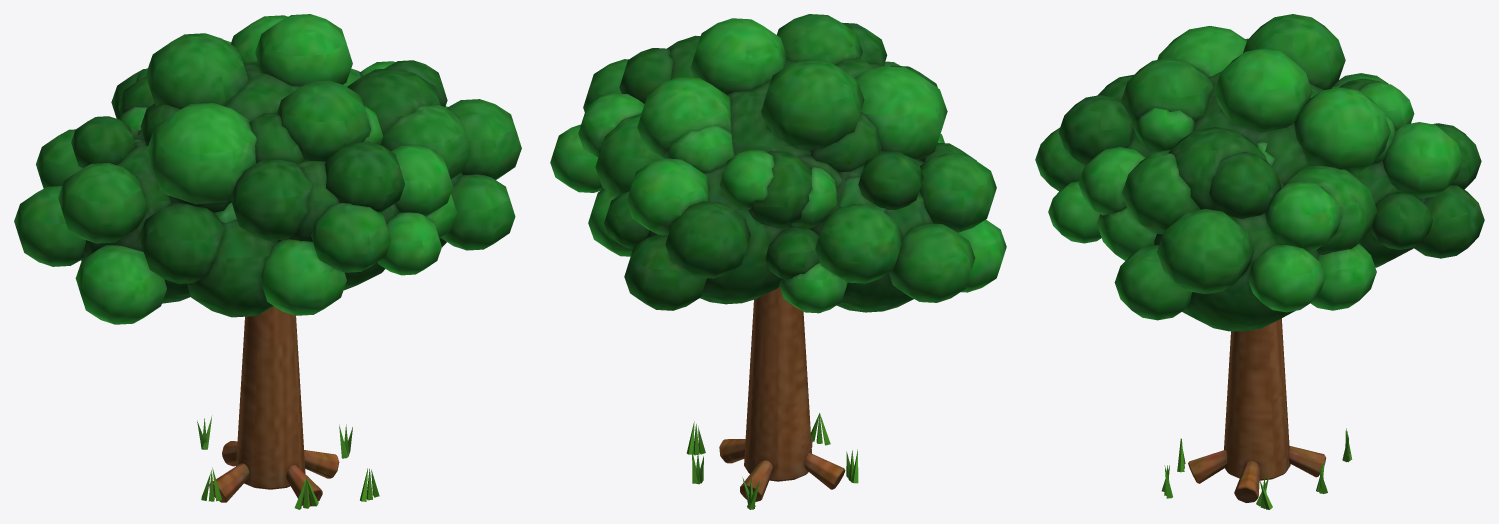
Rendered from rambutan_tree.glb.
3 renders of one model, left to right at view 1: azimuth 30°, elevation 25°; view 2: azimuth 150°, elevation 25°; view 3: azimuth 270°, elevation 25°, orthographic. The views are drawn at different scales.
Parts seen in each view (by area): view 1: crown, rambutan_tree; view 2: crown, rambutan_tree; view 3: crown, rambutan_tree.
Part boxes in pixels (x1,y1,x2,y2): crown: (14,14,521,324); rambutan_tree: (197,306,379,509); crown: (550,14,1006,313); rambutan_tree: (686,287,858,509); crown: (1035,14,1484,331); rambutan_tree: (1161,318,1352,509).
Bounding box in the file's own units: 1.31 × 1.29 × 1.19.
Materials: 1 (1 with a texture image).
